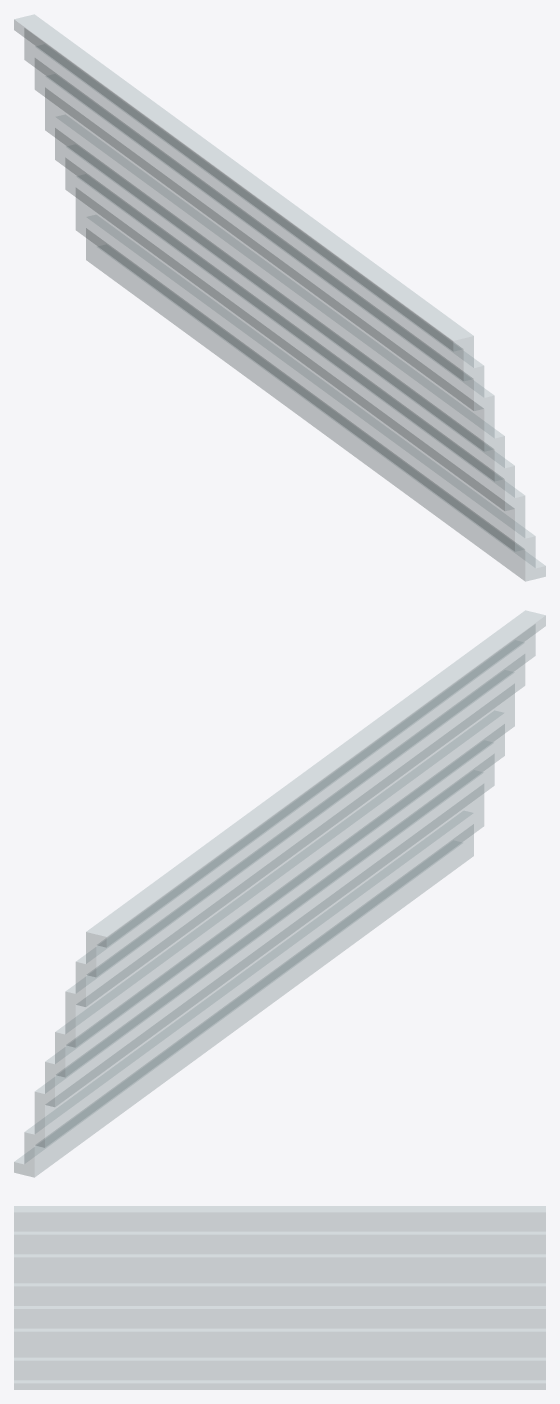
File: semi_tractor_windscreen.glb
3 views of the same model, one above another, from view 1: azimuth 30°, elevation 25°; view 2: azimuth 150°, elevation 25°; view 3: azimuth 270°, elevation 25° (orthographic). The views are drawn at different scales.
Parts seen in each view (by area): view 1: body:compound; view 2: body:compound; view 3: body:compound.
Boxes of the visible parts, x1,y1,x2,y2 form: body:compound: [14, 14, 545, 581]; body:compound: [14, 610, 545, 1177]; body:compound: [14, 1206, 545, 1389].
Size of the model in its own units: 0.2812 by 0.75 by 2.31.
